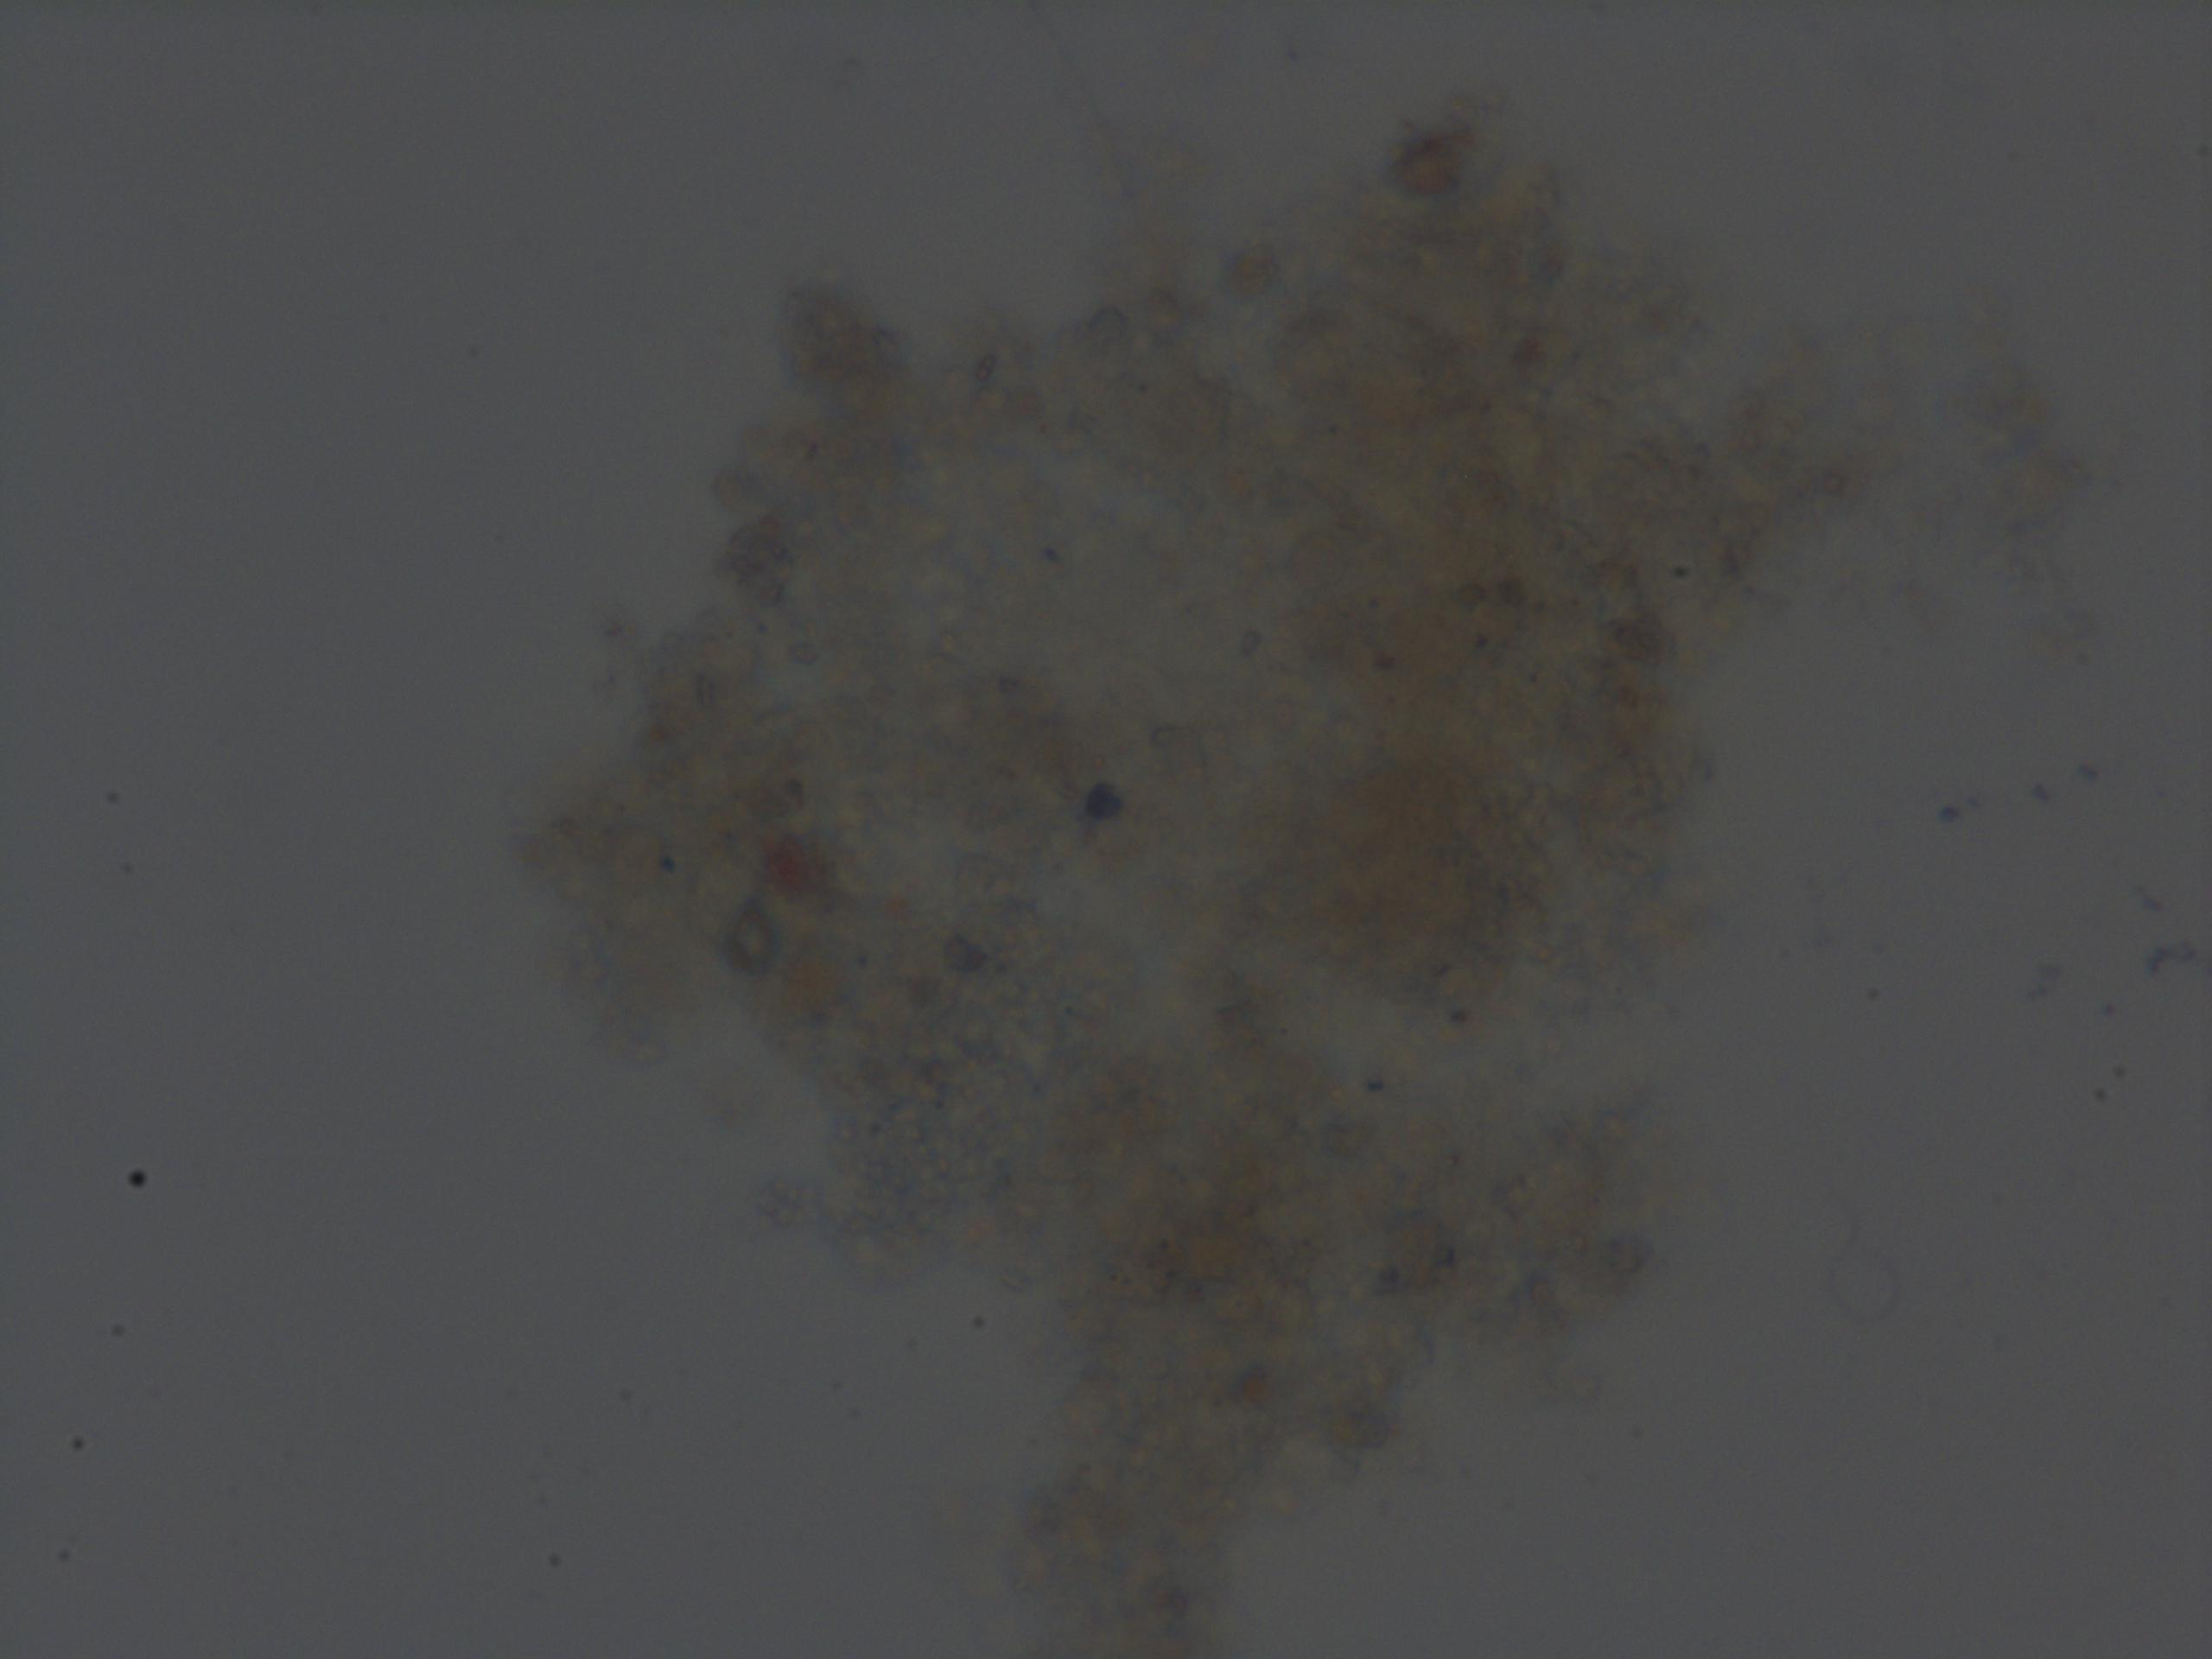open_floc: (540, 112, 1785, 1652)
